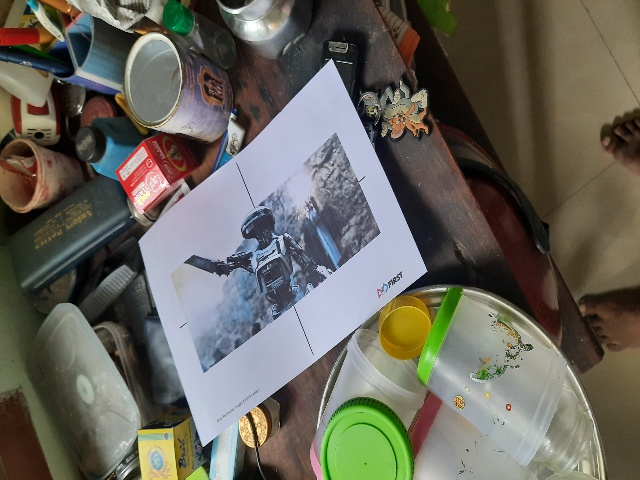bpt2: (136, 141, 391, 383)
